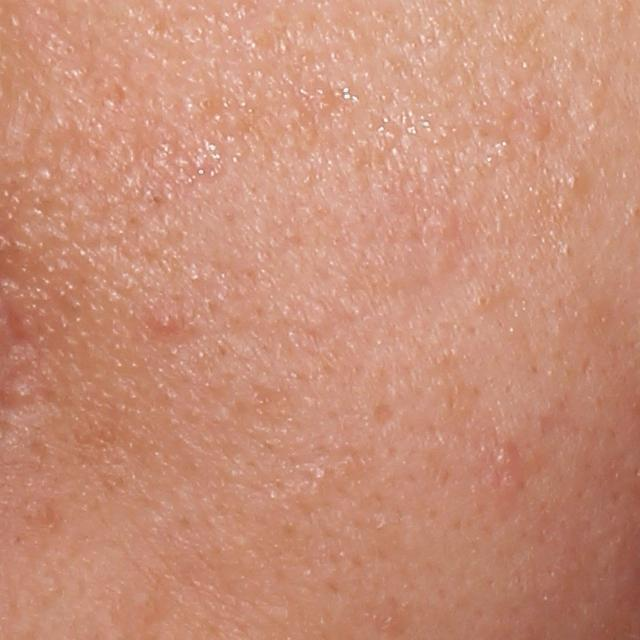atrophic_scar: (371, 402, 400, 429)
comedo: (559, 170, 588, 196), (468, 290, 495, 313), (198, 92, 216, 113)
papule: (144, 298, 190, 347)
